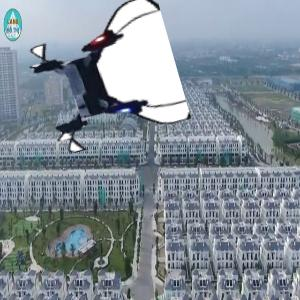drone: (33, 8, 179, 154)
